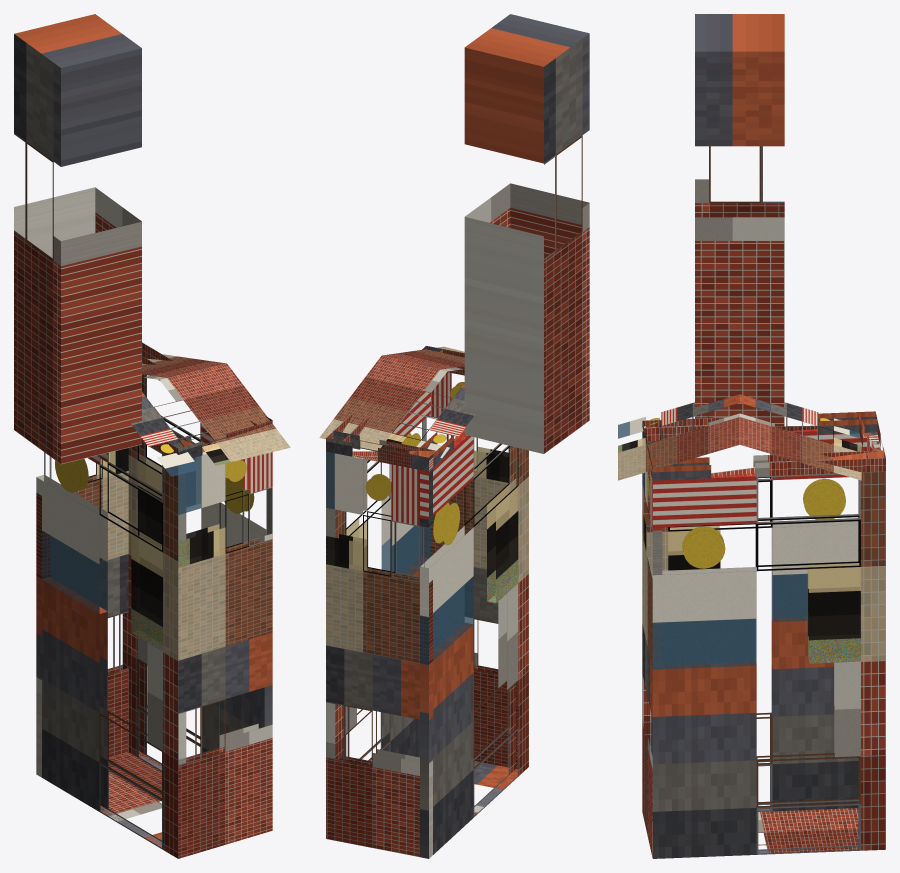
3 views of the same model, side by side, from view 1: azimuth 30°, elevation 25°; view 2: azimuth 150°, elevation 25°; view 3: azimuth 270°, elevation 25° (orthographic). The views are drawn at different scales.
Visible parts, largest first — view 1: 734333593__chimney_0_xb, 734333593__wall_3_xb, 734333593__wall_0_xb, 734333593__wall_1_xb, 734333593__wall_2_xb, 734333593_roof_-1_xb, 734333593__wall_3_xf, 734333593__base, 734333593__wall_0_xf, 734333593__wall_1_xf, 734333593_roof_1_xb, 734333593__cornice_0 (+1 smaller); view 2: 734333593__chimney_0_xb, 734333593__wall_2_xb, 734333593__wall_3_xb, 734333593__wall_0_xb, 734333593__wall_1_xb, 734333593_roof_1_xb, 734333593__wall_3_xf, 734333593__cornice_2, 734333593__wall_1_xf, 734333593__wall_2_xf, 734333593_roof_-1_xb, 734333593__base (+2 smaller); view 3: 734333593__wall_1_xb, 734333593__chimney_0_xb, 734333593__wall_3_xb, 734333593__wall_1_xf, 734333593_roof_-1_xb, 734333593_roof_1_xb, 734333593__wall_0_xb, 734333593__base, 734333593__cornice_1, 734333593__wall_3_xf, 734333593__cornice_3.
Boxes of the visible parts, x1=… form: 734333593__chimney_0_xb: x1=14, y1=14, x2=141, y2=464; 734333593__wall_3_xb: x1=36, y1=441, x2=186, y2=858; 734333593__wall_0_xb: x1=178, y1=447, x2=272, y2=858; 734333593__wall_1_xb: x1=122, y1=374, x2=272, y2=771; 734333593__wall_2_xb: x1=36, y1=448, x2=128, y2=777; 734333593_roof_-1_xb: x1=131, y1=363, x2=290, y2=476; 734333593__wall_3_xf: x1=42, y1=531, x2=162, y2=650; 734333593__base: x1=100, y1=751, x2=161, y2=847; 734333593__wall_0_xf: x1=178, y1=456, x2=224, y2=566; 734333593__wall_1_xf: x1=138, y1=458, x2=161, y2=542; 734333593_roof_1_xb: x1=142, y1=354, x2=226, y2=379; 734333593__cornice_0: x1=168, y1=417, x2=272, y2=458; 734333593__chimney_0_xb: x1=464, y1=14, x2=589, y2=453; 734333593__wall_2_xb: x1=326, y1=452, x2=432, y2=858; 734333593__wall_3_xb: x1=420, y1=431, x2=528, y2=858; 734333593__wall_0_xb: x1=422, y1=372, x2=517, y2=768; 734333593__wall_1_xb: x1=326, y1=391, x2=430, y2=838; 734333593_roof_1_xb: x1=319, y1=355, x2=475, y2=465; 734333593__wall_3_xf: x1=420, y1=485, x2=517, y2=664; 734333593__cornice_2: x1=326, y1=431, x2=436, y2=471; 734333593__wall_1_xf: x1=346, y1=519, x2=430, y2=574; 734333593__wall_2_xf: x1=326, y1=452, x2=366, y2=570; 734333593_roof_-1_xb: x1=382, y1=346, x2=464, y2=371; 734333593__base: x1=474, y1=761, x2=517, y2=815; 734333593__wall_1_xb: x1=652, y1=471, x2=885, y2=858; 734333593__chimney_0_xb: x1=695, y1=14, x2=784, y2=426; 734333593__wall_3_xb: x1=642, y1=429, x2=876, y2=811; 734333593__wall_1_xf: x1=653, y1=563, x2=860, y2=669; 734333593_roof_-1_xb: x1=618, y1=394, x2=739, y2=480; 734333593_roof_1_xb: x1=739, y1=394, x2=861, y2=480; 734333593__wall_0_xb: x1=642, y1=435, x2=662, y2=858; 734333593__base: x1=758, y1=808, x2=859, y2=853; 734333593__cornice_1: x1=651, y1=450, x2=885, y2=480; 734333593__wall_3_xf: x1=668, y1=478, x2=823, y2=762; 734333593__cornice_3: x1=642, y1=411, x2=877, y2=441.
Size of the model in its own units: 0.3503 by 1.4 by 0.449.
Materials: 1 (1 with a texture image).
